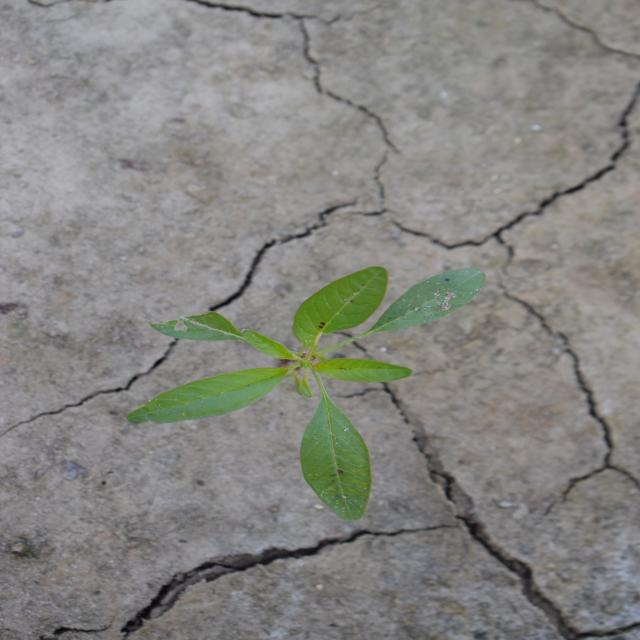Waterhemp: (125, 264, 490, 522)
